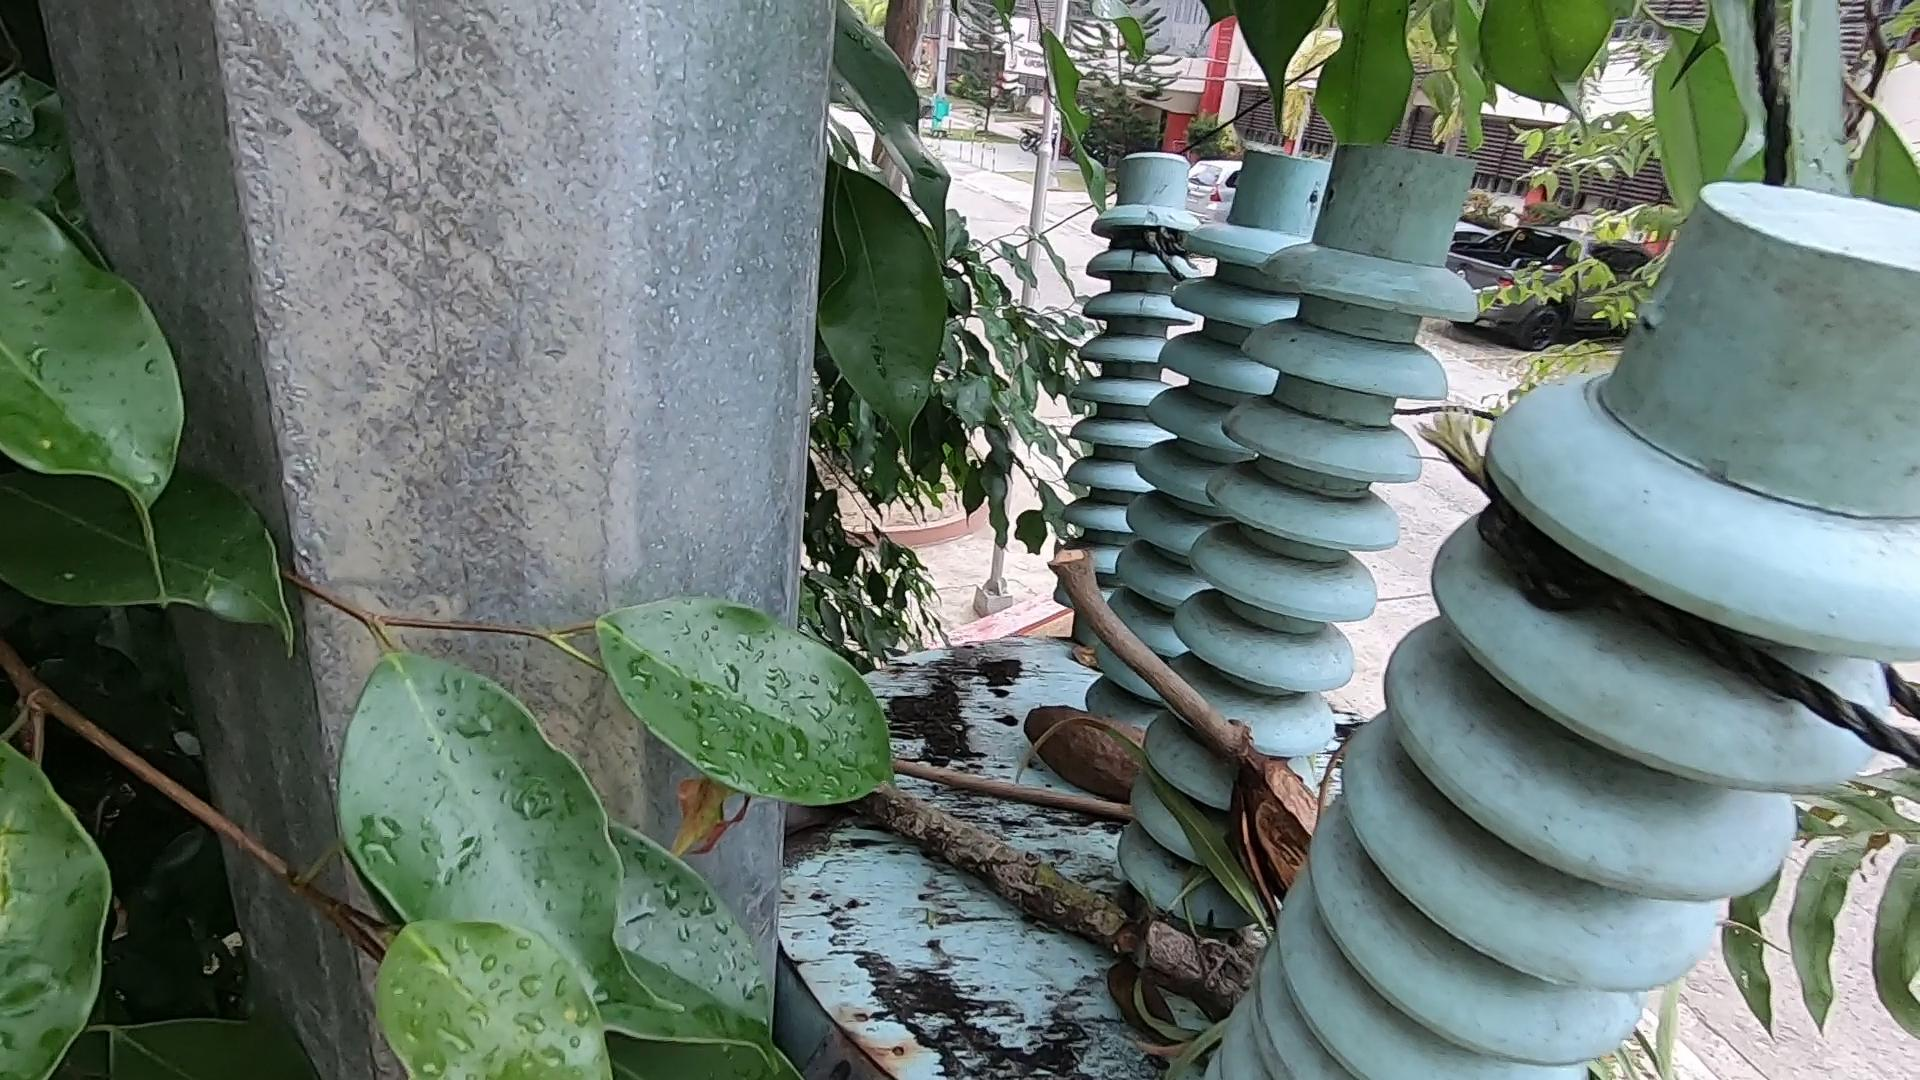branch with leaves: (828, 705, 1335, 1058)
mahogany fruit: (1226, 738, 1358, 945), (1036, 649, 1137, 829)
tree branch: (986, 524, 1229, 731), (870, 749, 1106, 829)
